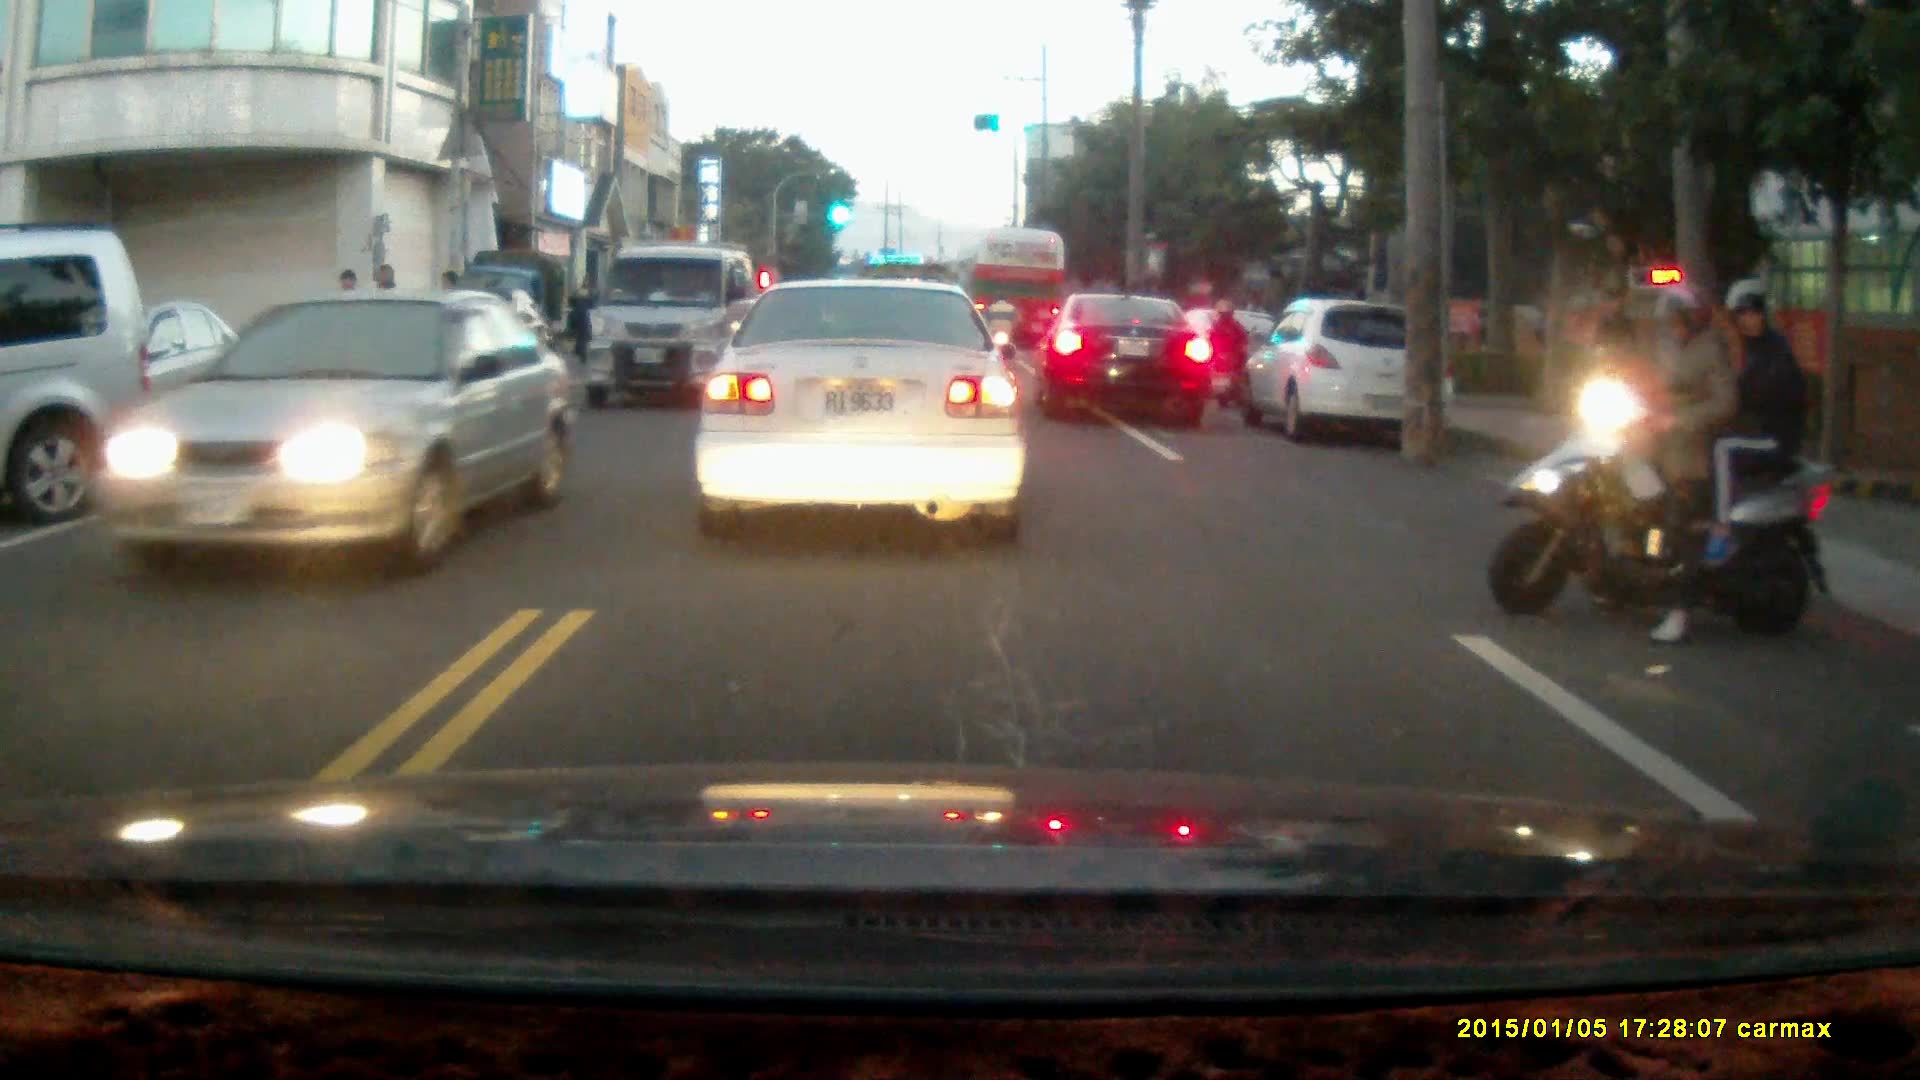pedestrian: (1590, 284, 1642, 409), (567, 273, 598, 362)
rider: (1491, 275, 1828, 650), (1203, 293, 1253, 407), (981, 288, 1020, 365)
vehicle: (98, 289, 561, 582), (692, 273, 1030, 545), (1, 226, 164, 521), (13, 299, 277, 466), (1243, 295, 1457, 441), (586, 242, 763, 409), (1036, 295, 1220, 428), (970, 224, 1072, 362)
